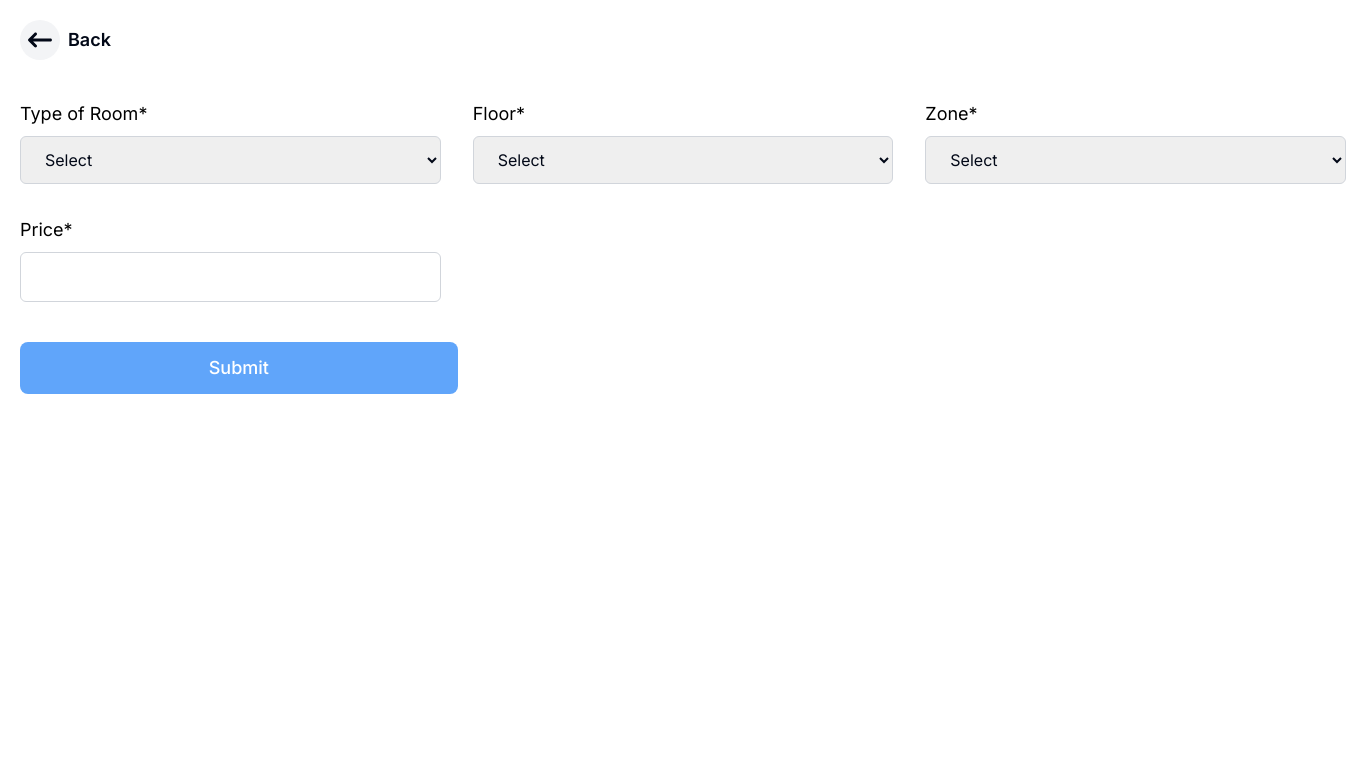
AddHotel Component › handles form submission with valid data
This screenshot has width=1366, height=768.
Select "Single" in the dropdown labelled "Type of Room*": (230, 160) top-left (20, 136), bottom-right (441, 184)
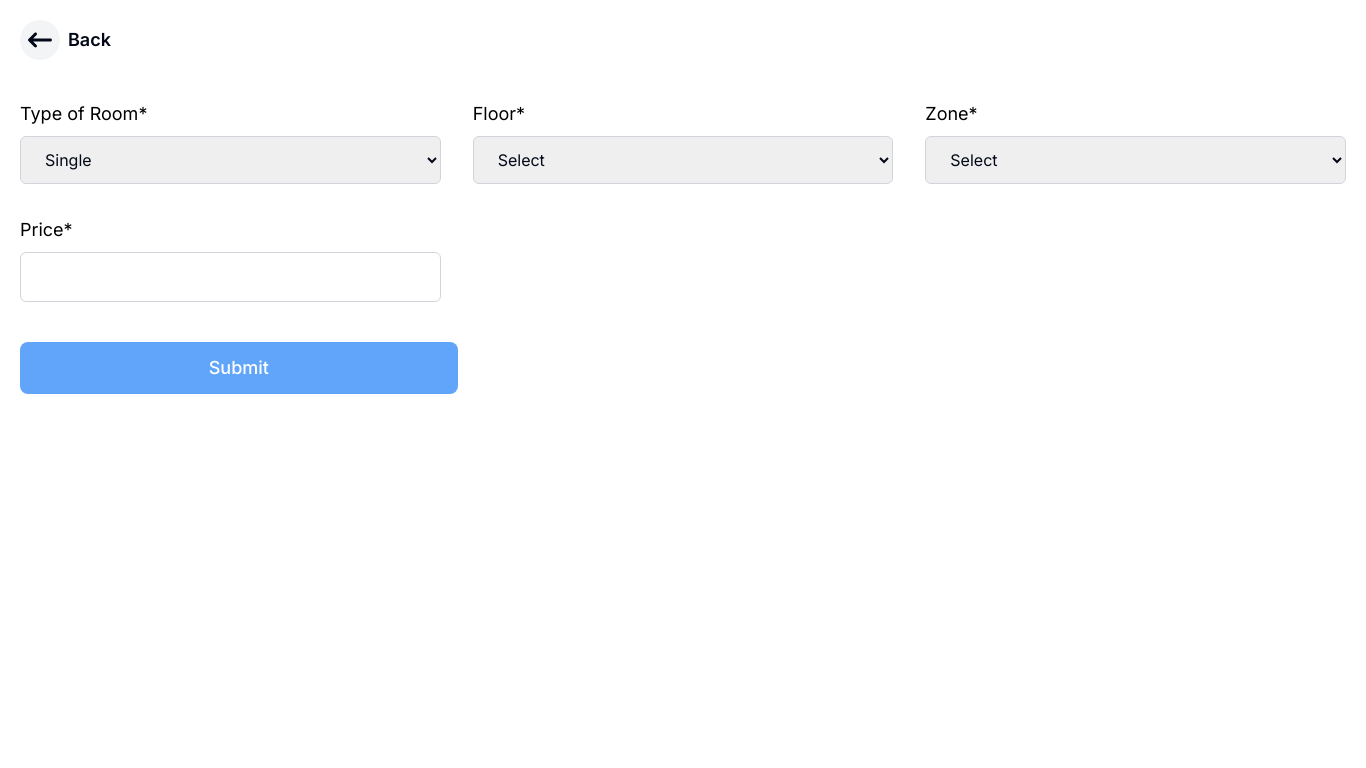
Select "1" in the dropdown labelled "Floor*": (683, 160) top-left (473, 136), bottom-right (893, 184)
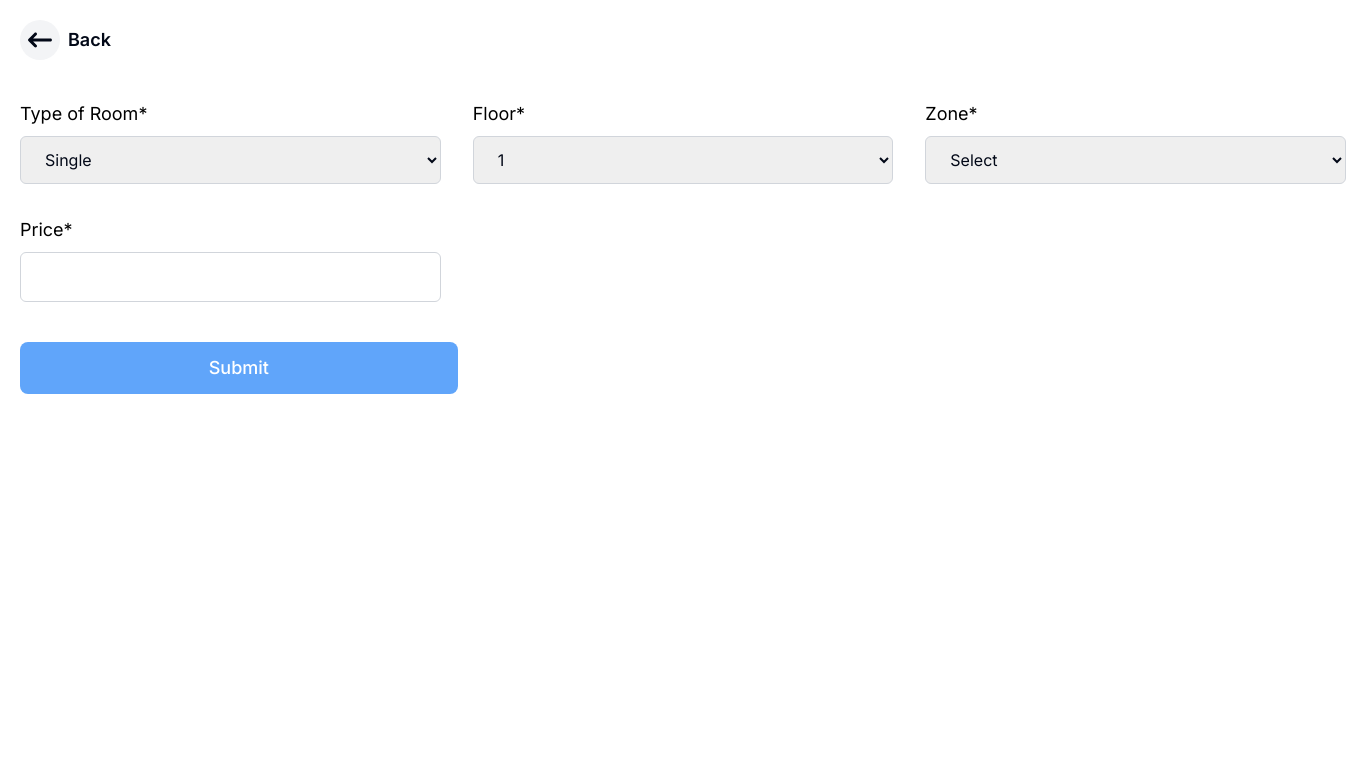
Select "North" in the dropdown labelled "Zone*": (1136, 160) top-left (925, 136), bottom-right (1346, 184)
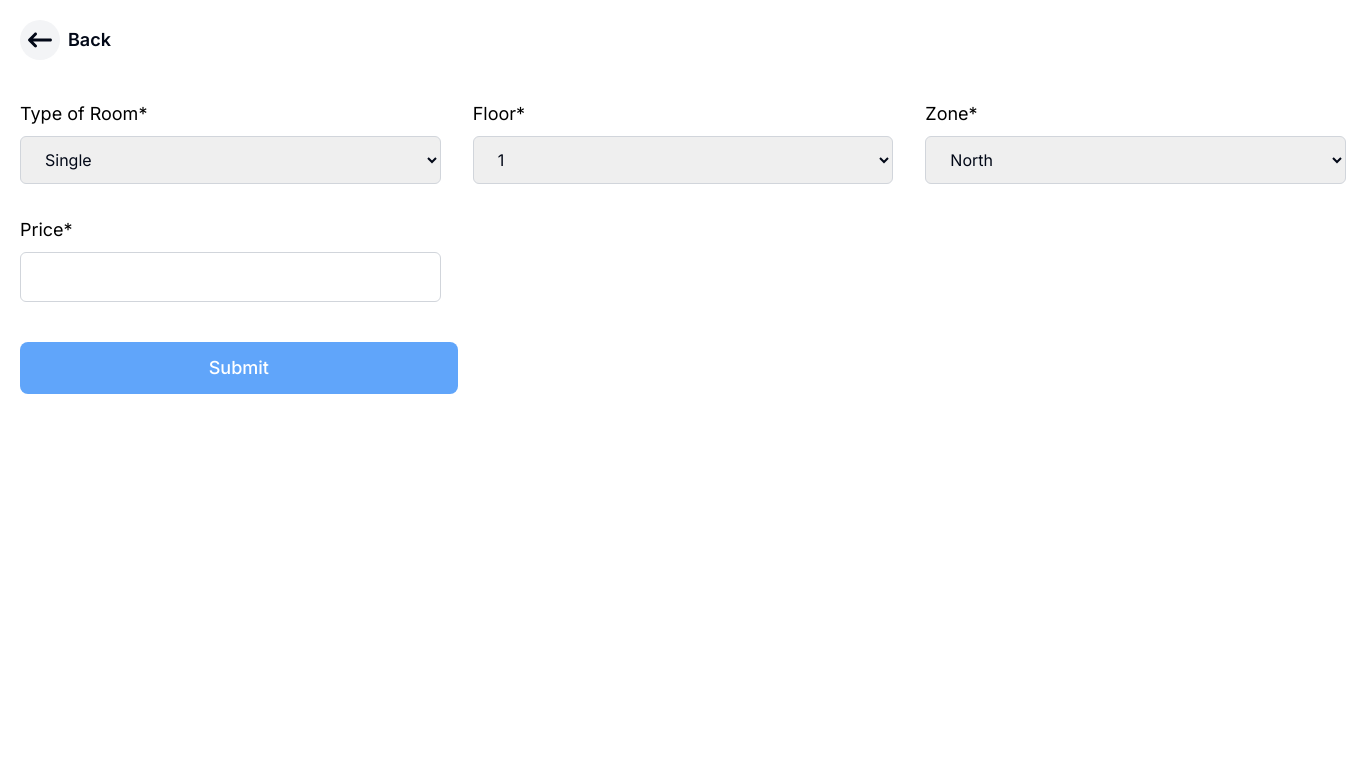
In the field labelled "Price*": (230, 277) top-left (20, 252), bottom-right (441, 302), type "100"
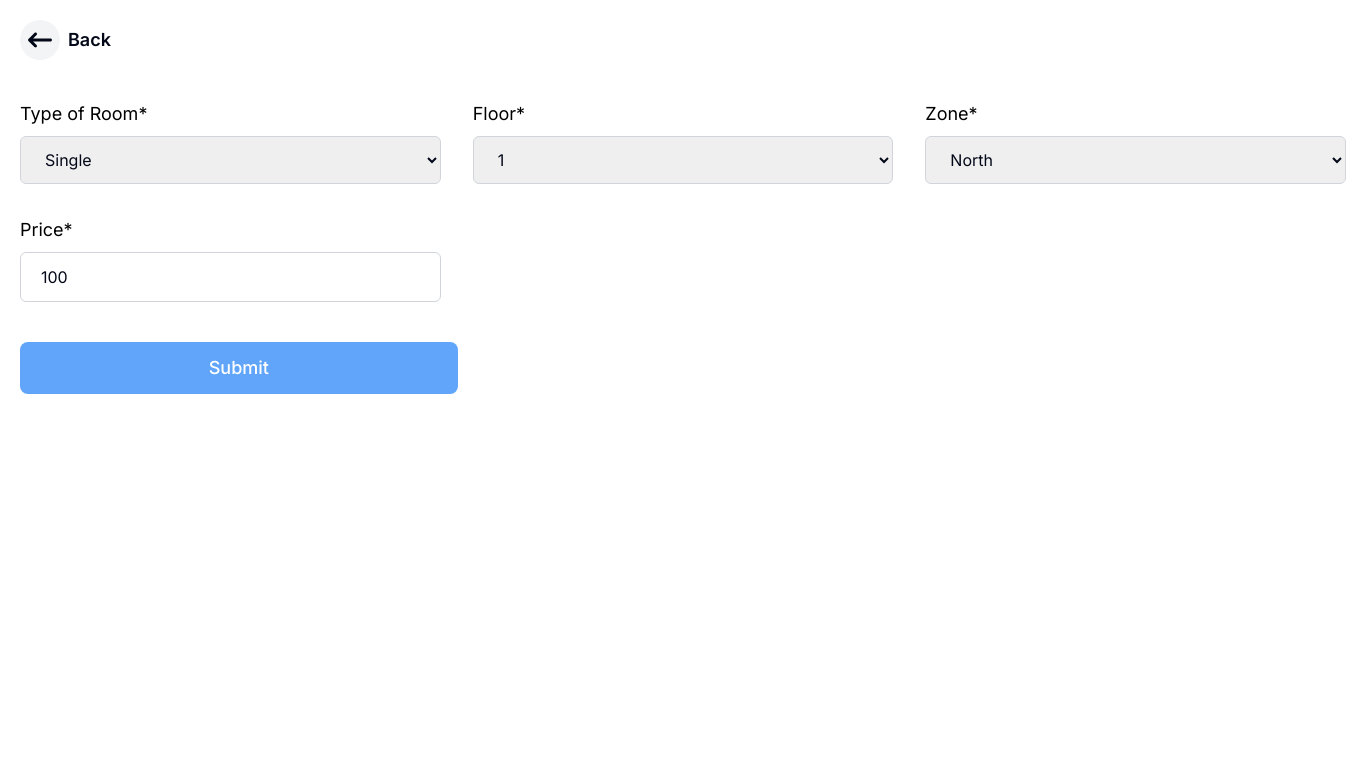
Click the button "Submit": (239, 368) top-left (20, 342), bottom-right (458, 394)
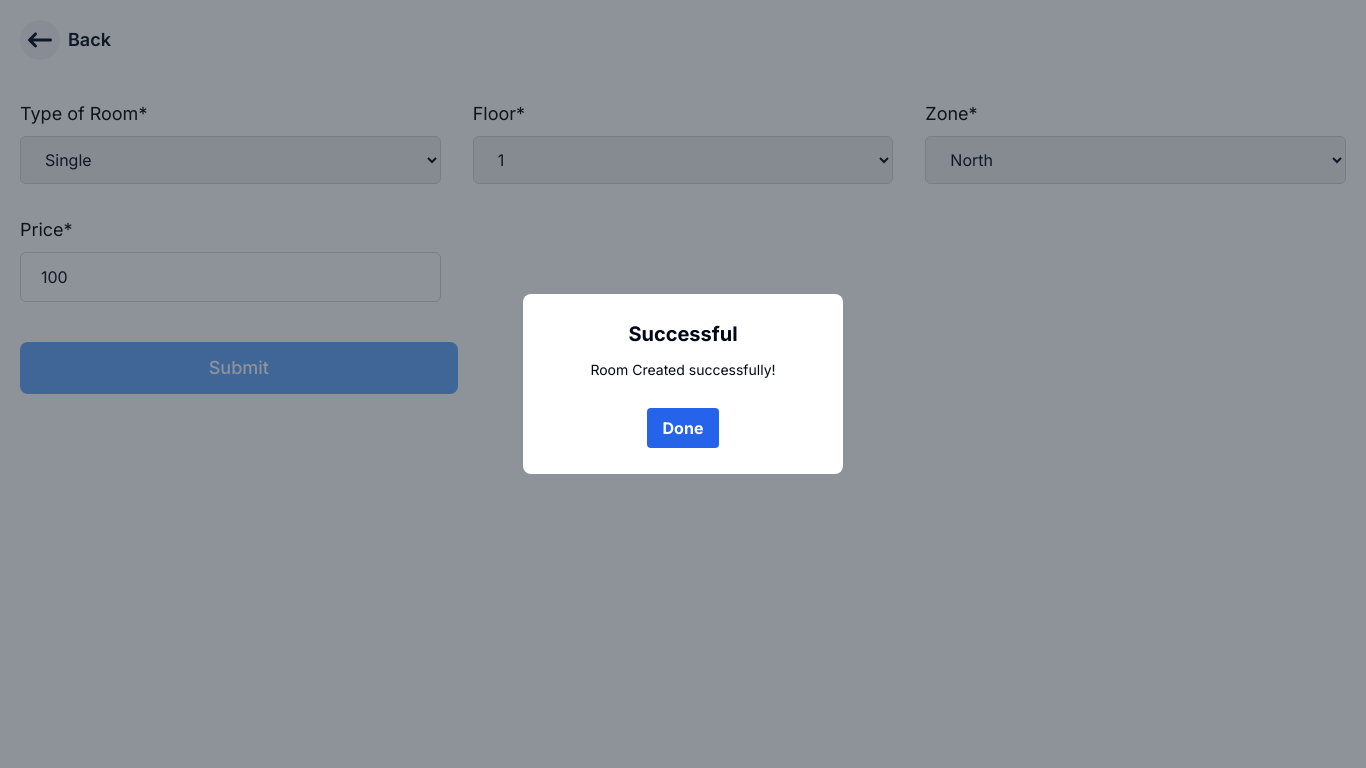
Expected: the heading "Room Created successfully!" is shown, top-left (590, 360), bottom-right (776, 380)
